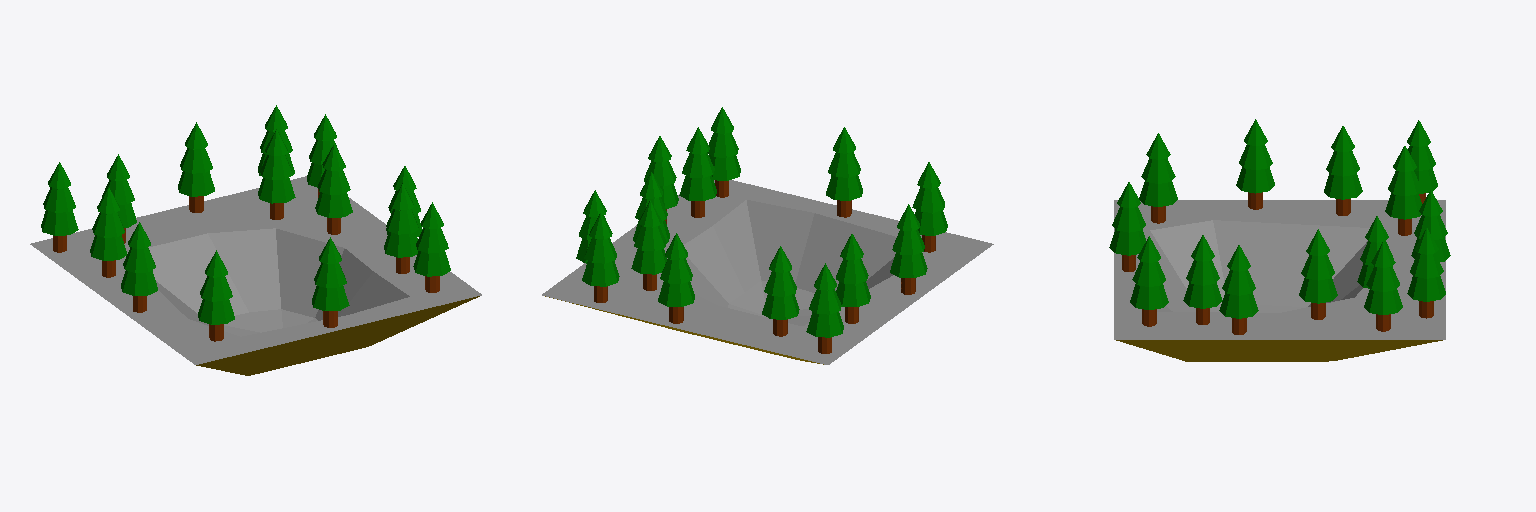
The picture shows the model from 3 angles: view 1: azimuth 30°, elevation 25°; view 2: azimuth 150°, elevation 25°; view 3: azimuth 270°, elevation 25°; orthographic projection.
Parts seen in each view (by area): view 1: Object001, Plane001, Cone037, Cone064, Cone034, Cone058, Cone070, Cone043, Cone073, Cone052, Cone067, Cone046 (+10 smaller); view 2: Object001, Cone061, Cone034, Cone064, Cone055, Cone046, Cone058, Cone070, Cone052, Cone067, Cone073, Cone056 (+12 smaller); view 3: Object001, Plane001, Cone067, Cone040, Cone046, Cone049, Cone070, Cone073, Cone037, Cone043, Cone055, Cone061 (+13 smaller).
Boxes of the visible parts, <box> form: Object001: <box>30,176,481,364</box>; Plane001: <box>196,296,479,375</box>; Cone037: <box>413,251,450,276</box>; Cone064: <box>41,210,78,235</box>; Cone034: <box>312,286,349,310</box>; Cone058: <box>178,171,214,196</box>; Cone070: <box>121,270,157,295</box>; Cone043: <box>315,192,352,217</box>; Cone073: <box>198,299,234,324</box>; Cone052: <box>258,178,295,203</box>; Cone067: <box>90,235,126,260</box>; Cone046: <box>384,232,417,257</box>; Object001: <box>542,180,993,364</box>; Cone061: <box>762,294,799,319</box>; Cone034: <box>826,175,862,200</box>; Cone064: <box>806,312,843,337</box>; Cone055: <box>582,261,619,286</box>; Cone046: <box>679,175,716,200</box>; Cone058: <box>658,281,694,306</box>; Cone070: <box>890,253,927,277</box>; Cone052: <box>631,249,666,274</box>; Cone067: <box>836,281,870,306</box>; Cone073: <box>915,210,947,235</box>; Cone056: <box>584,238,616,263</box>; Object001: <box>1114,200,1445,339</box>; Plane001: <box>1116,340,1442,361</box>; Cone067: <box>1324,173,1362,199</box>; Cone040: <box>1219,292,1258,318</box>; Cone046: <box>1183,282,1222,308</box>; Cone049: <box>1364,289,1402,314</box>; Cone070: <box>1236,167,1274,193</box>; Cone073: <box>1139,181,1177,206</box>; Cone037: <box>1130,284,1168,309</box>; Cone043: <box>1299,277,1337,303</box>; Cone055: <box>1407,276,1445,301</box>; Cone061: <box>1385,193,1421,219</box>.
Size of the model in its own units: 137 by 66.86 by 139.
Materials: 4 (2 with a texture image).